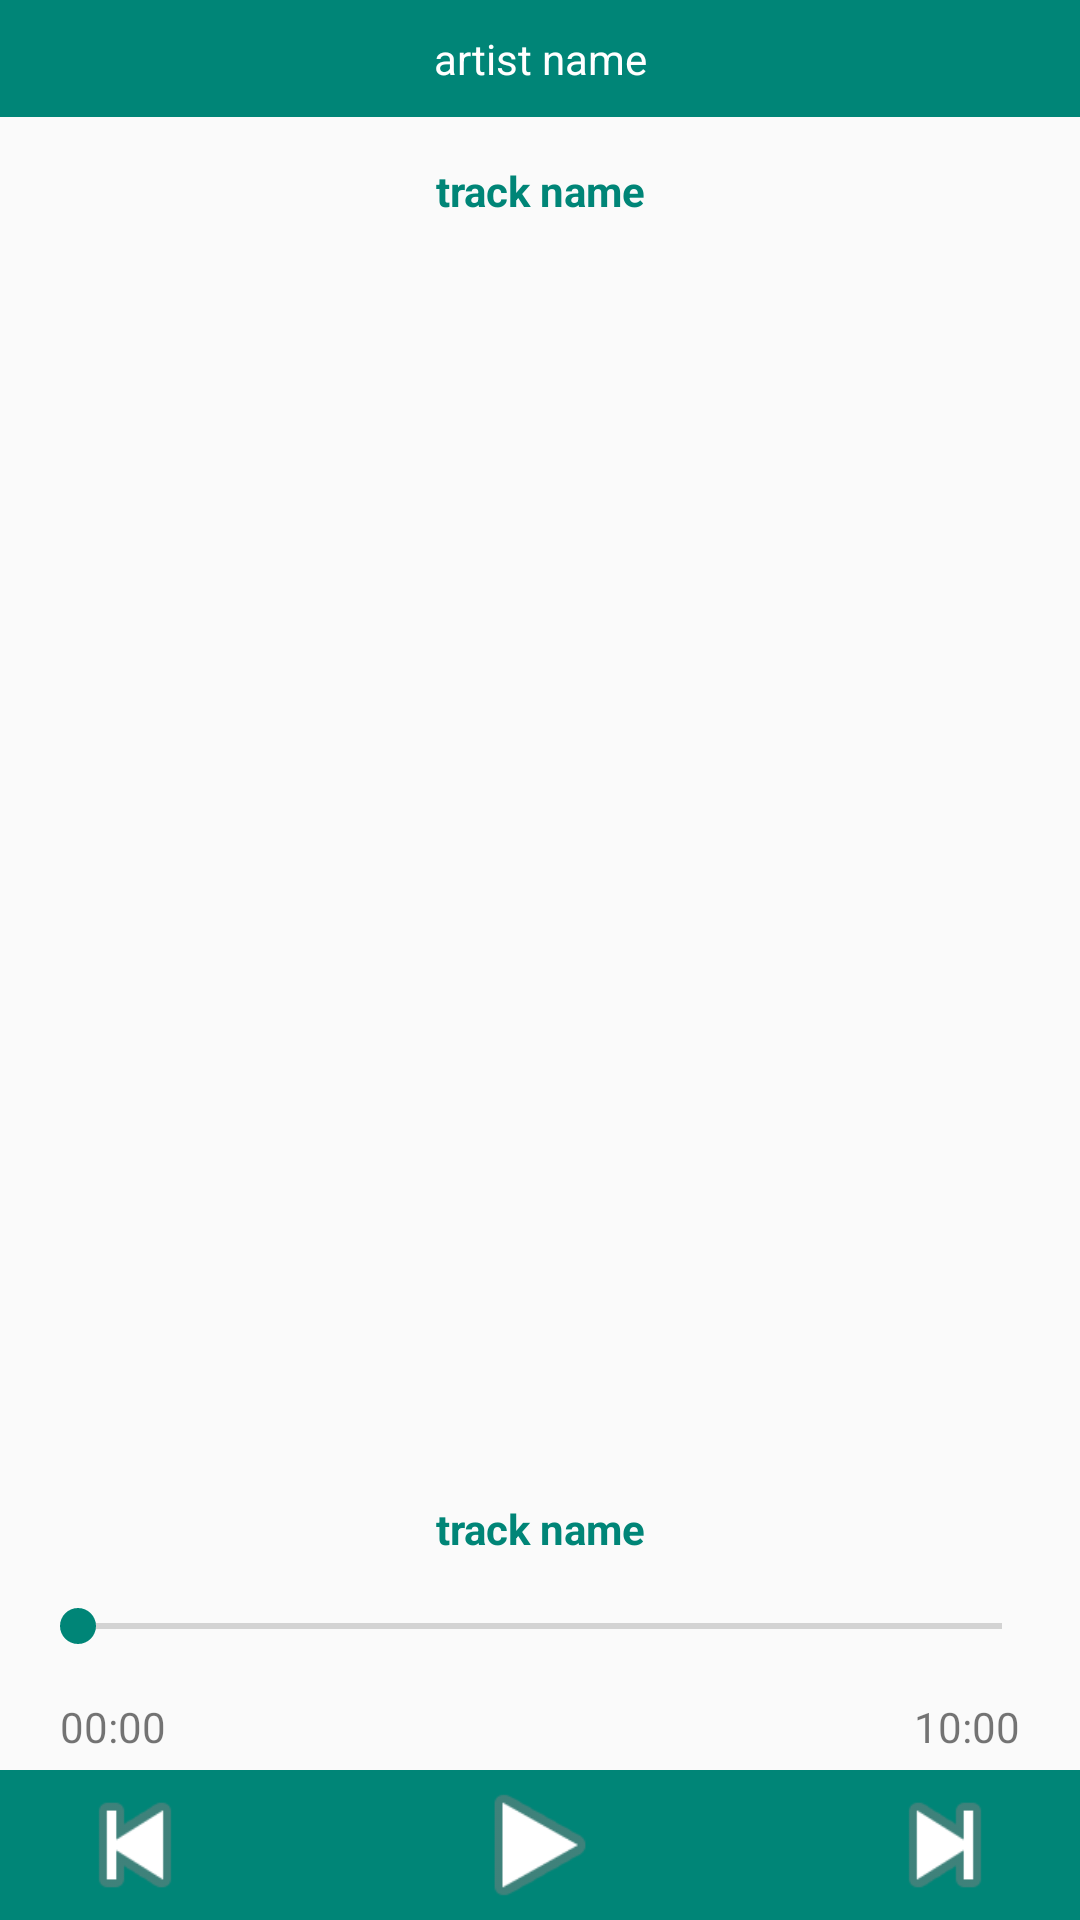

Where to tap for icons on this 1080w x 1920h app screen, as (x,y):
next: (945,1845)
play: (540,1845)
previous: (135,1845)
